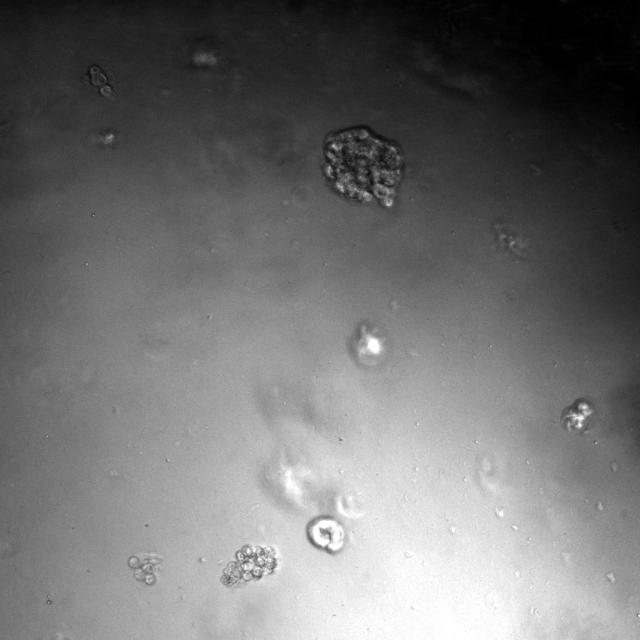organoid: (323, 125, 404, 207), (221, 544, 278, 588), (307, 516, 344, 553), (561, 398, 594, 433), (82, 65, 114, 99), (128, 554, 161, 586)
